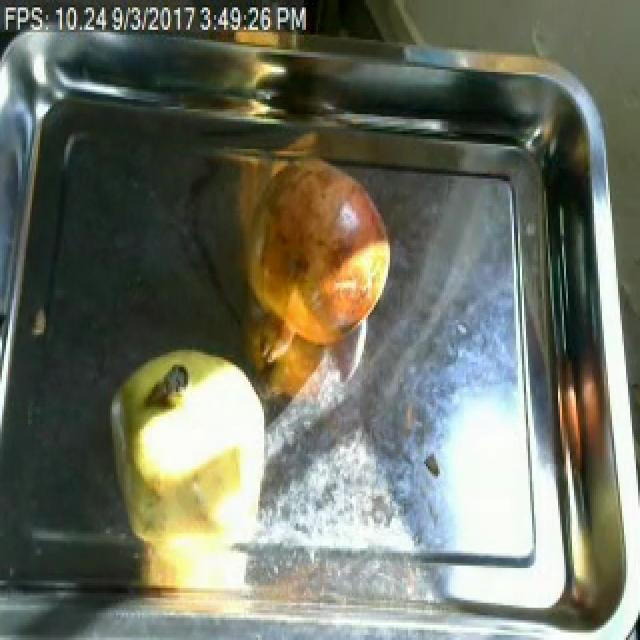fruit: (94, 332, 282, 560), (240, 146, 402, 365)
